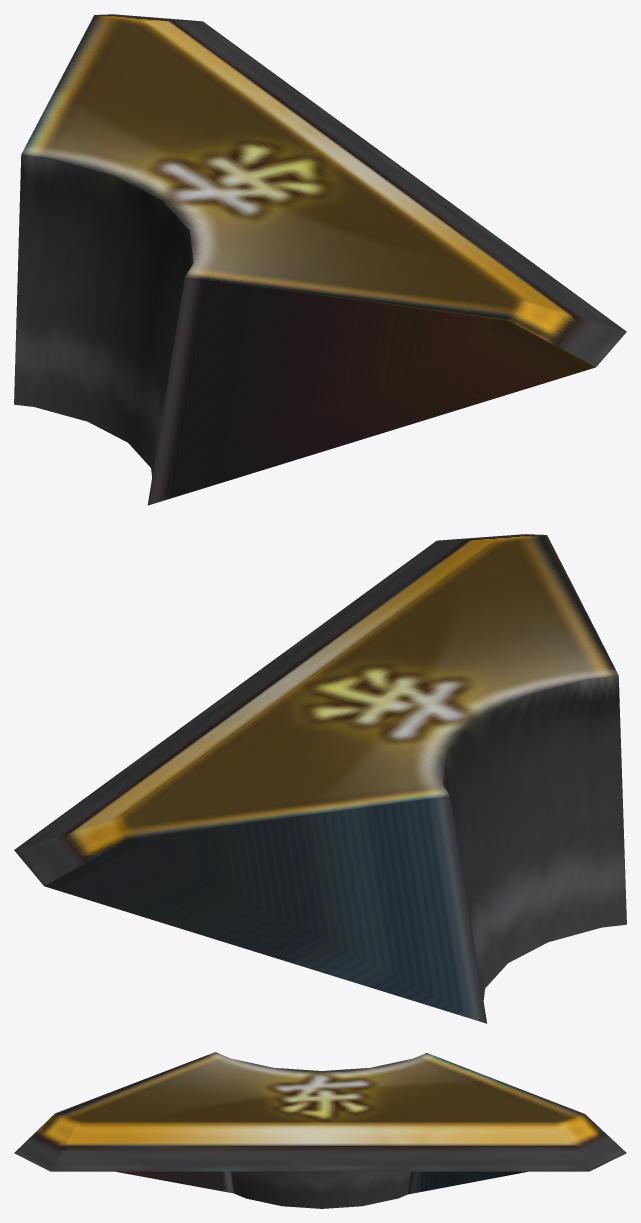
The model's file is desk_dong.FBX.
The picture shows the model from 3 angles, top to bottom: view 1: azimuth 30°, elevation 25°; view 2: azimuth 150°, elevation 25°; view 3: azimuth 270°, elevation 25°; orthographic projection. The views are drawn at different scales.
Parts seen in each view (by area): view 1: dong; view 2: dong; view 3: dong.
Boxes of the visible parts, box(x1,y1,x2,y2) form: dong: box(14, 14, 626, 505); dong: box(14, 534, 626, 1023); dong: box(14, 1052, 626, 1208).
Size of the model in its own units: 0.128 by 0.0853 by 0.3192.
